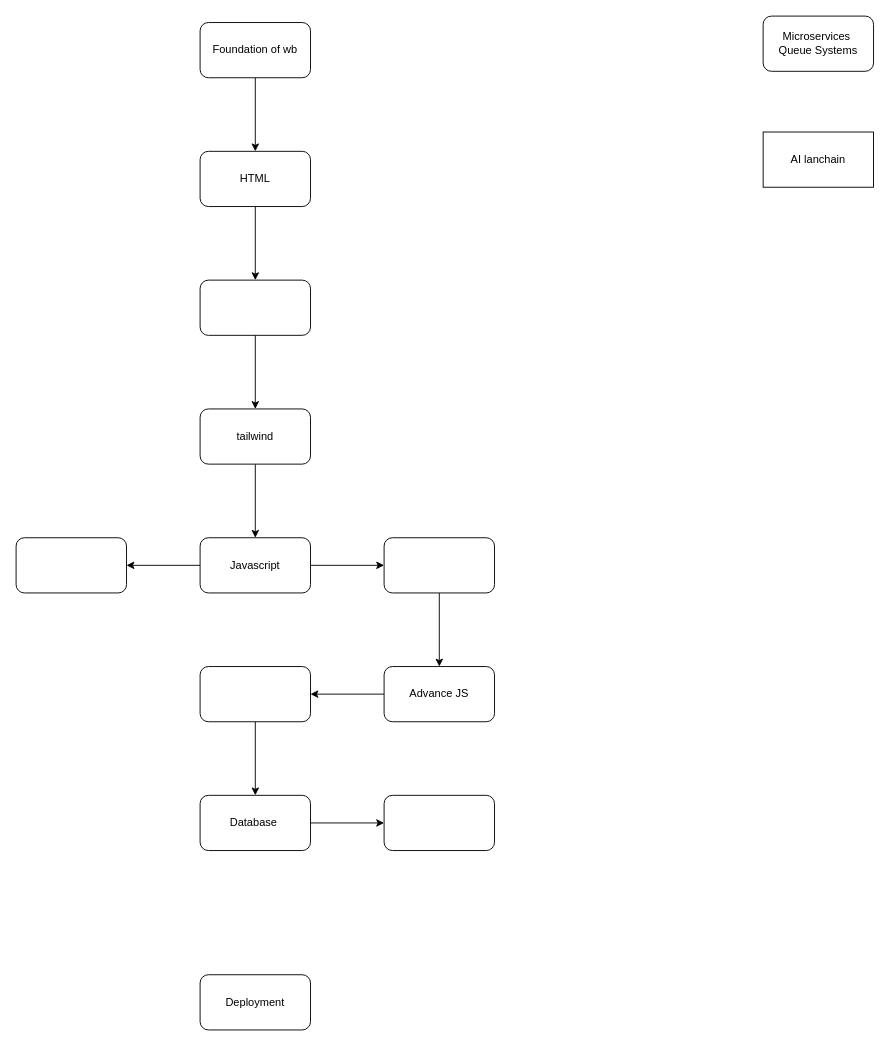
The diagram is 890 pixels wide and 1046 high, and some of its shapes have lost their labels. Each missing label, with the box of its shape:
Backend develpment: (199, 666, 310, 722)
CSS: (199, 279, 310, 335)
dom and bom: (383, 537, 494, 593)
MongoDB aggregation pipline: (383, 794, 494, 851)
React: (15, 537, 126, 593)
